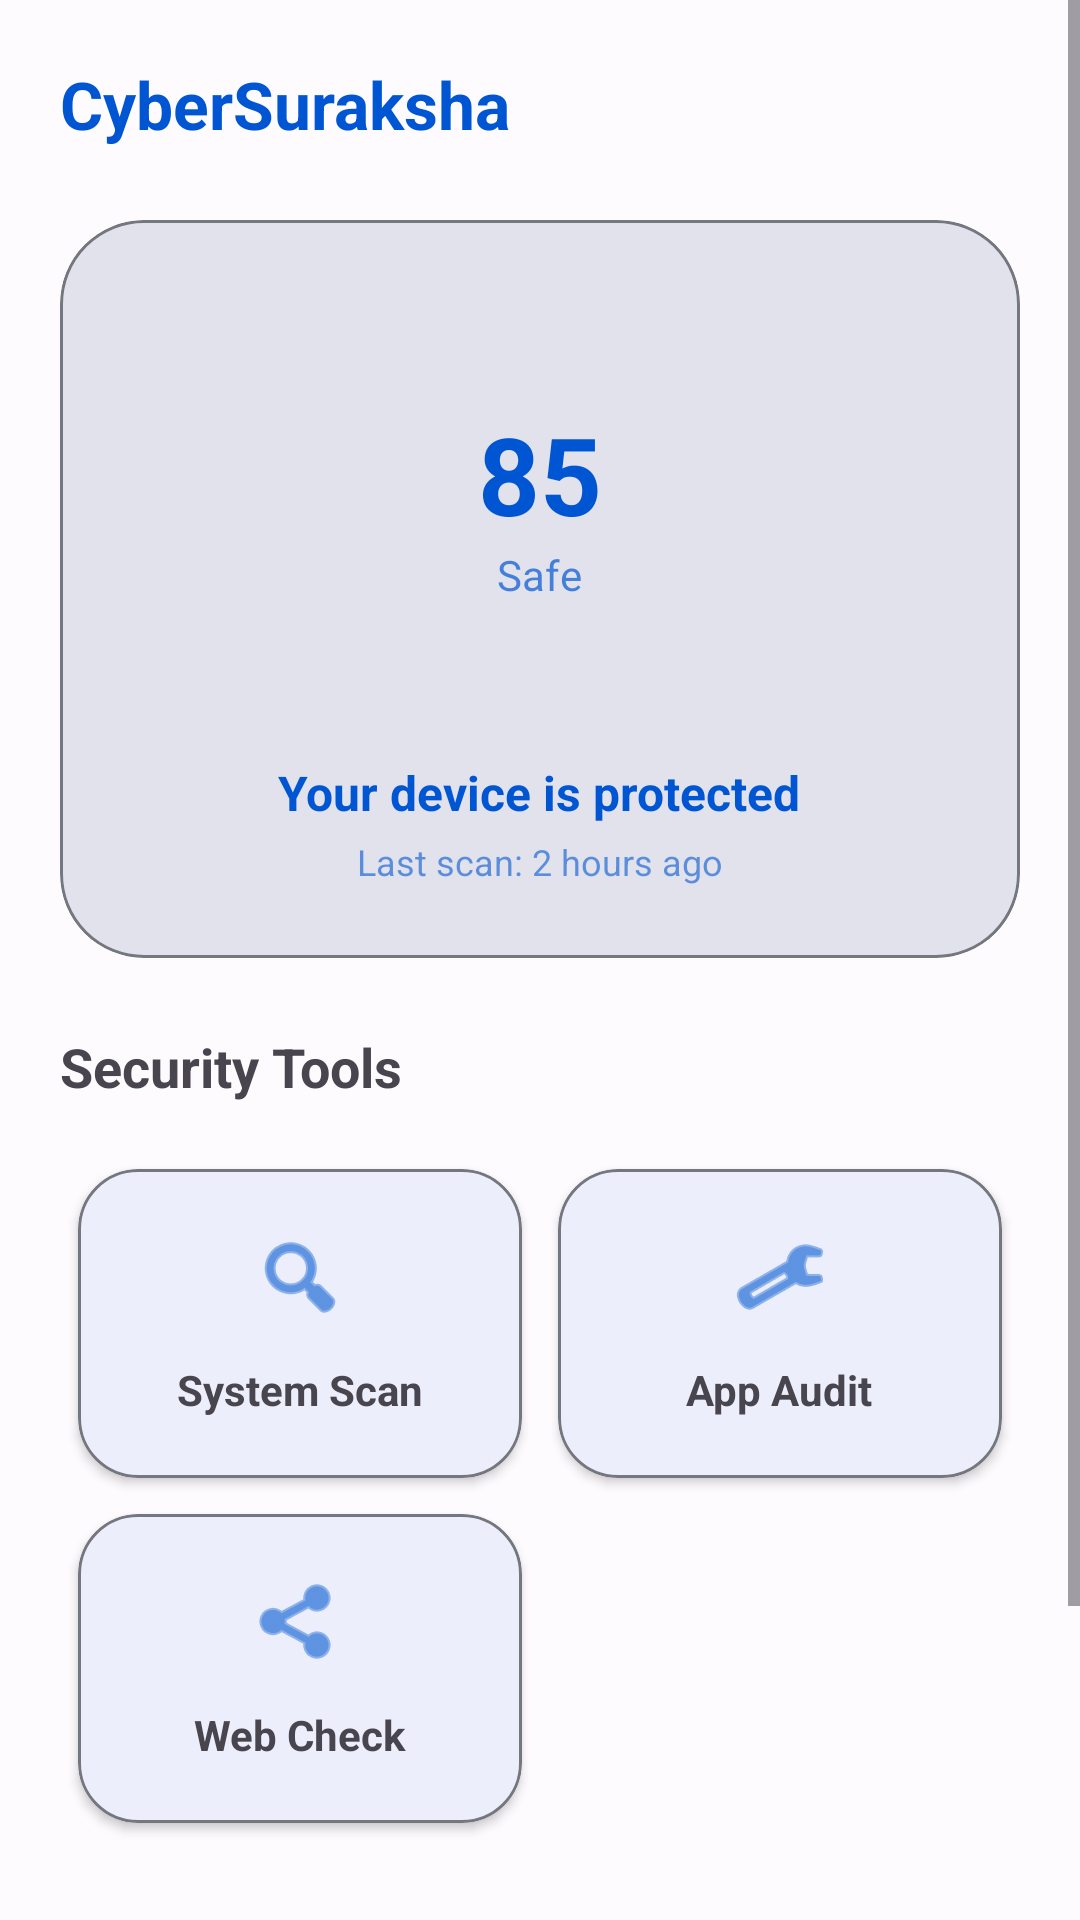

Icons on this 1080px×1920px Android screen, each with the point to tap as (x,y):
manage: (780,1277)
search: (300,1277)
share: (295,1621)
